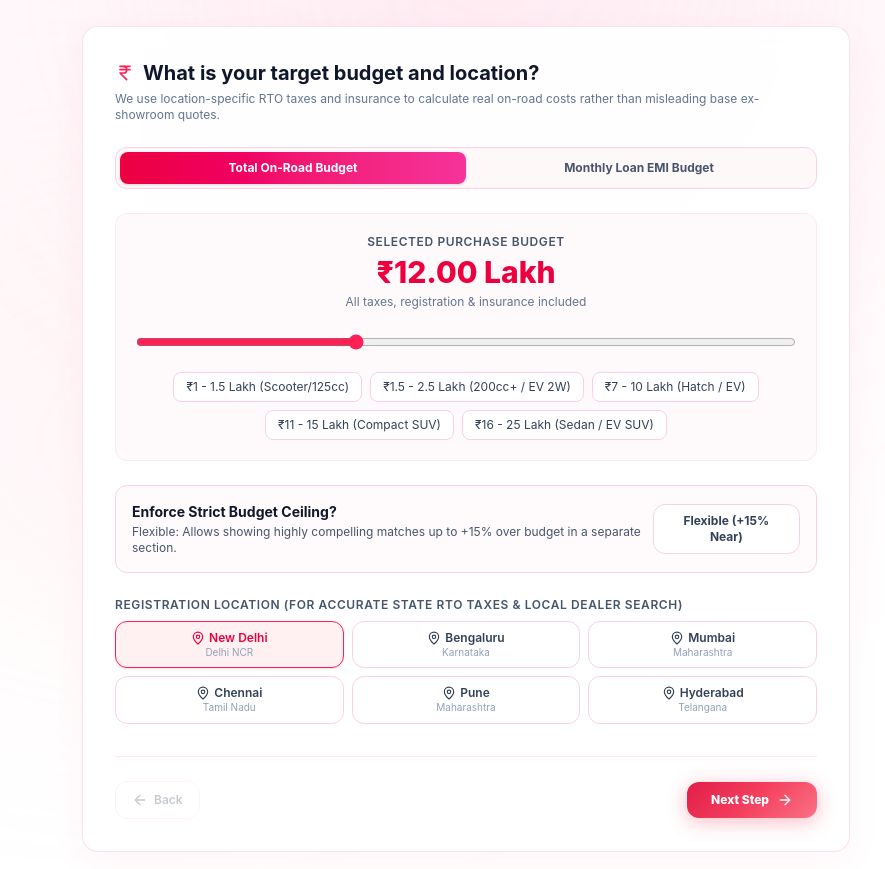
Test: Recommendation Engine Frontend Suite › QuestionnairePage Component › navigates to Step 2 and allows category selection with category-specific options
(page scrolled)
Click Next to go to Step 2
What coordinates should you click on to do the following:
click the button "Next Step"
I would click on:
 (752, 800)
Its box is 687,782 -> 817,818.
(page scrolled)
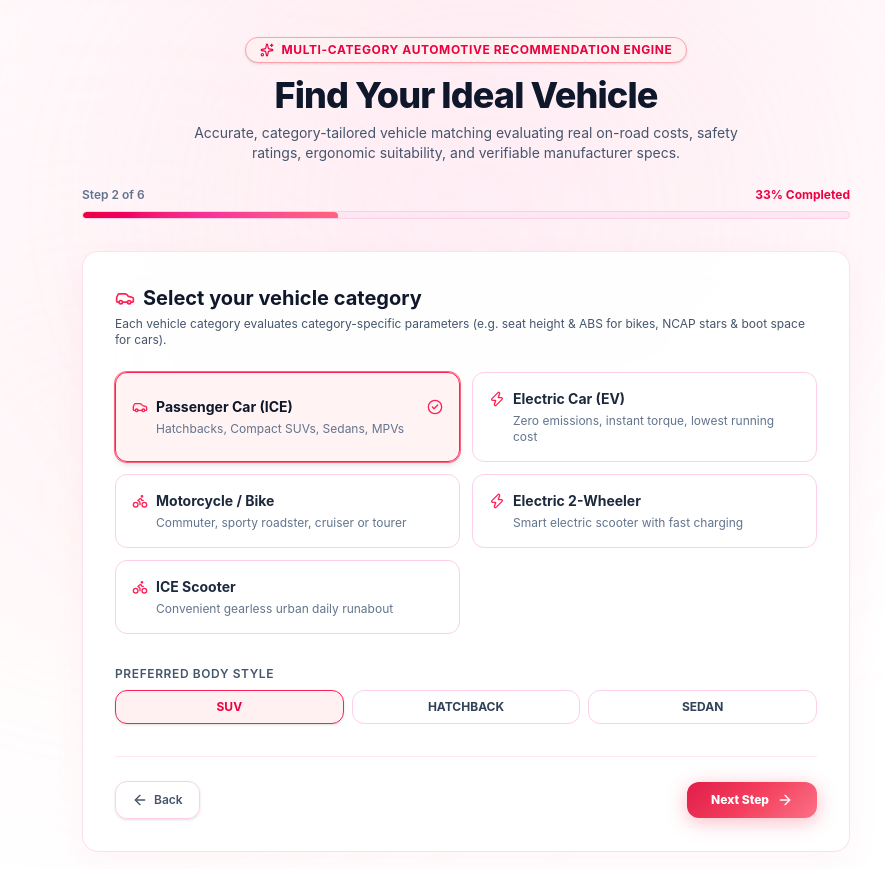
expect the button "SUV" is shown: met, box 115,690 -> 344,724
expect the heading "Select your vehicle category" is shown: met, box 115,286 -> 422,310
expect the text "Preferred Body Style" is shown: met, box 115,666 -> 274,681
Click Motorcycle
What coordinates should you click on to do the following:
click the button "Motorcycle / Bike"
I would click on:
 (215, 500)
Its box is 115,474 -> 460,548.
(page scrolled)
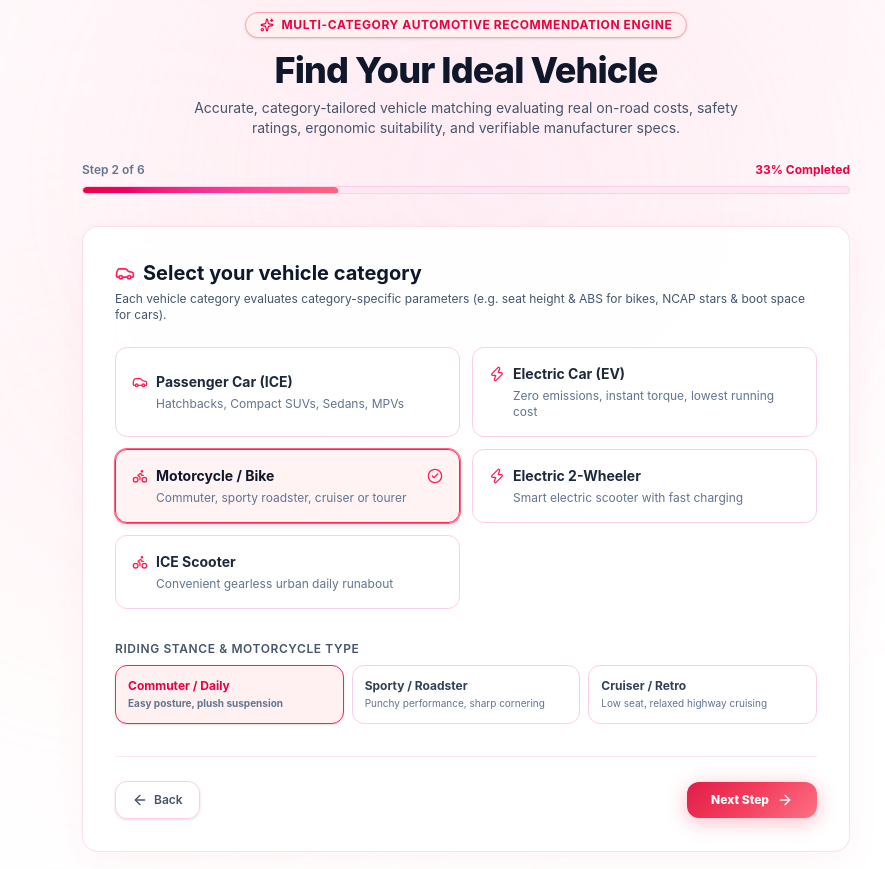
expect the text "Riding Stance & Motorcycle Type" is shown: met, box 115,641 -> 359,656
expect the text "Commuter / Daily" is shown: met, box 128,678 -> 230,693
